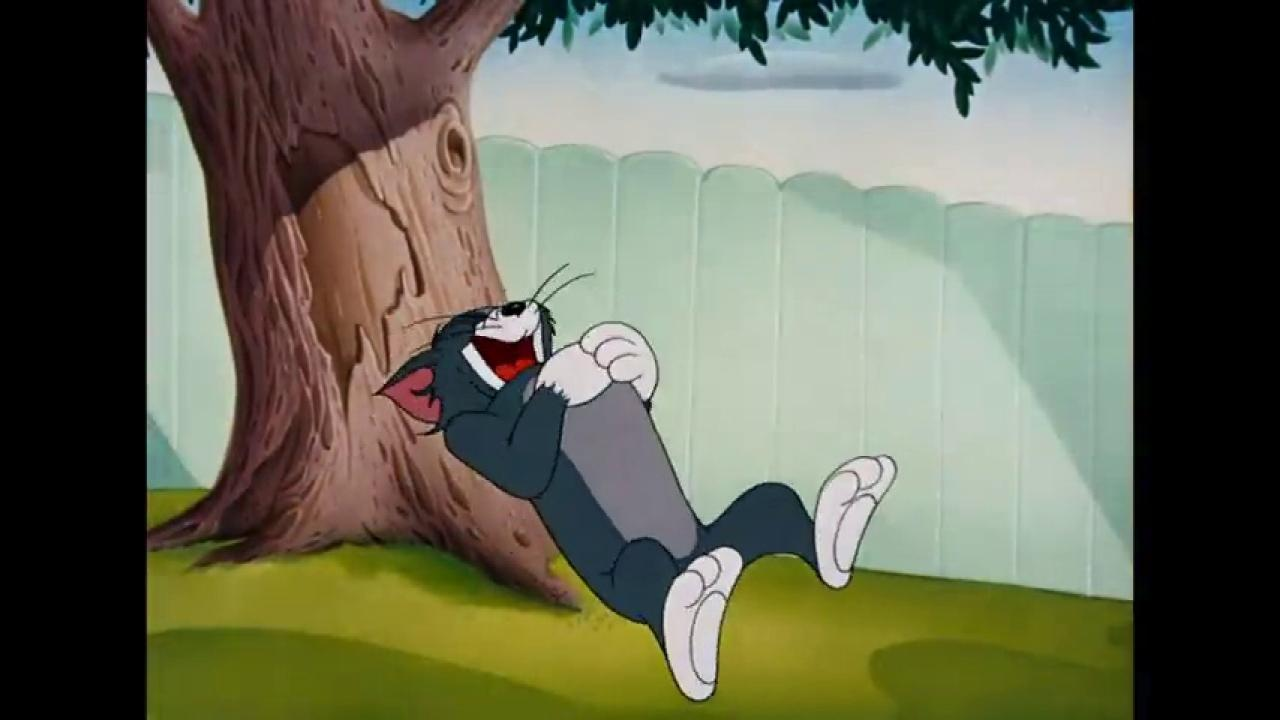Tom: (373, 296, 898, 705)
